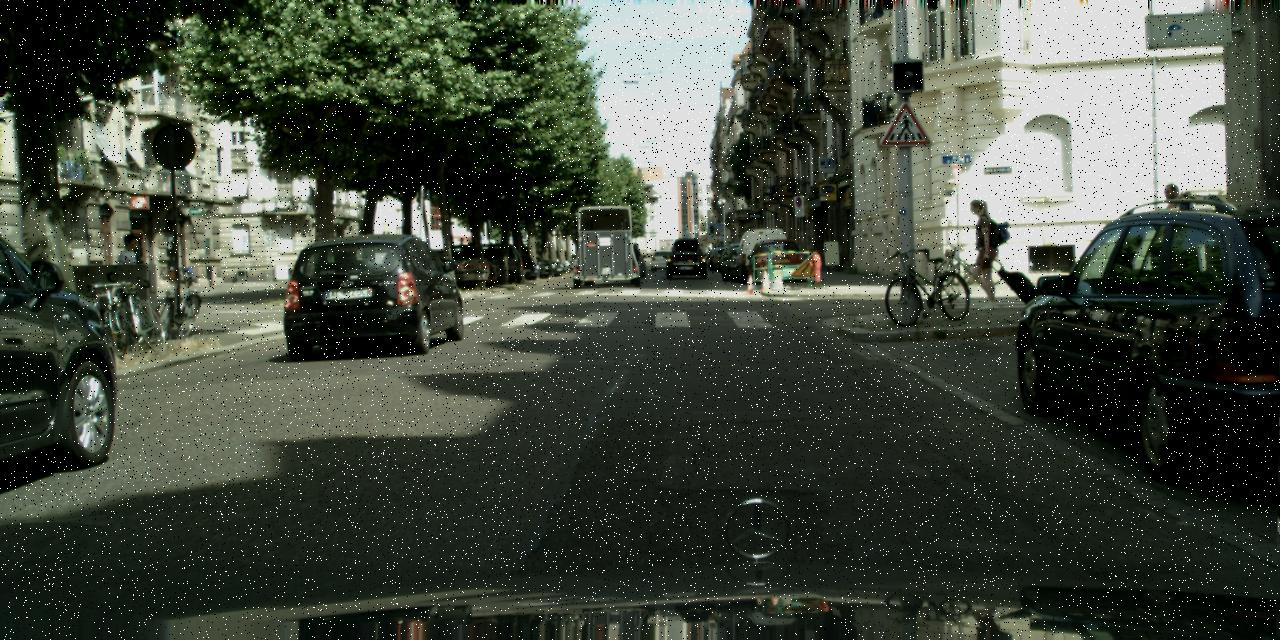ped: (1150, 183, 1198, 301), (961, 198, 1006, 307), (113, 233, 150, 324)
